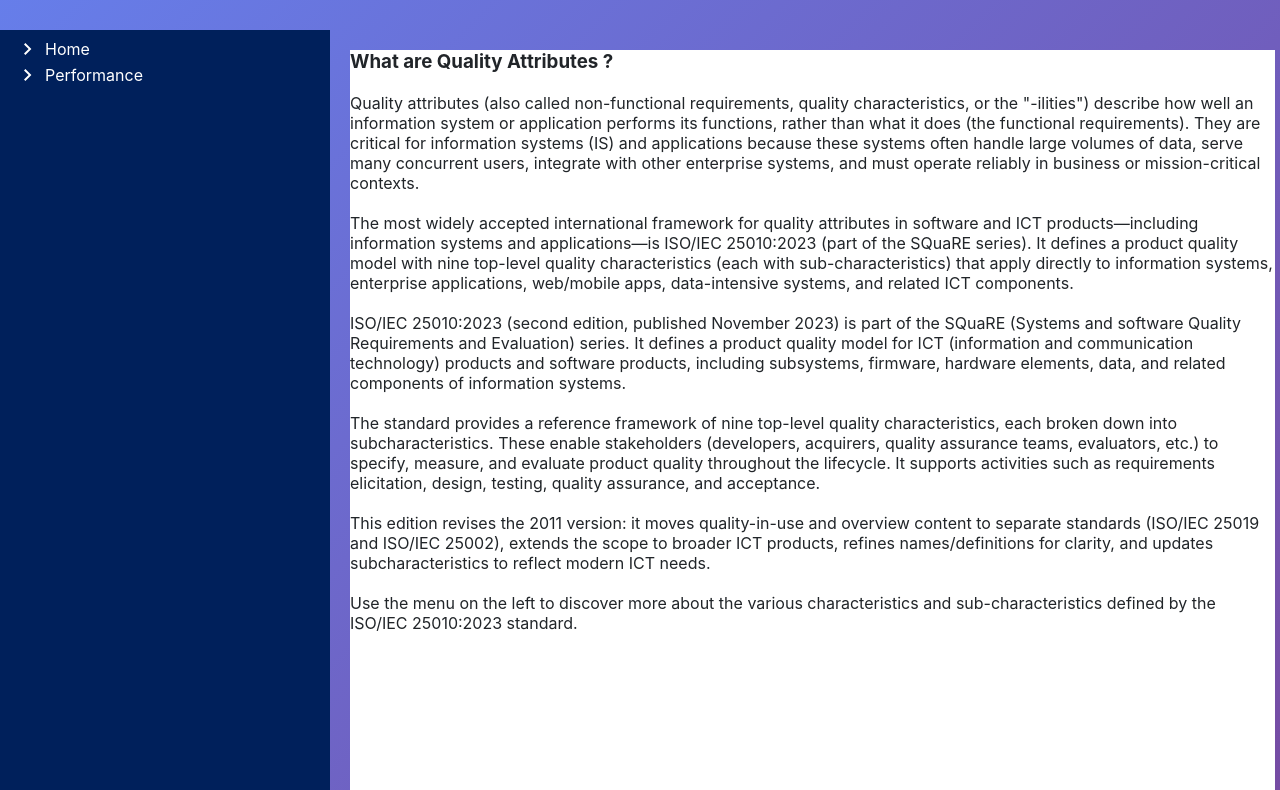
Scenario: ReportBuilder › select sub-characteristic
Click the text "Performance" at [80, 75], box [16,63,143,87]
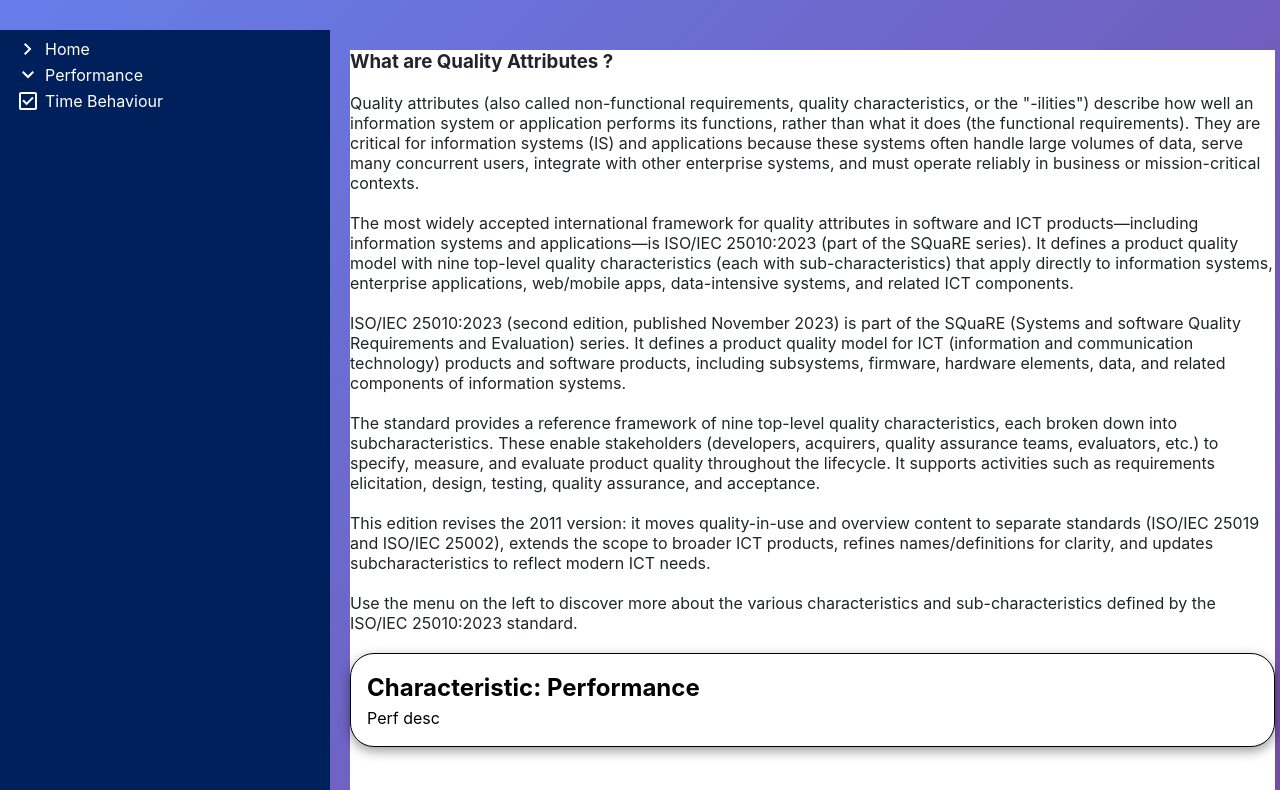
Click the text "Time Behaviour" at [90, 101], box [16,89,163,113]
(page scrolled)
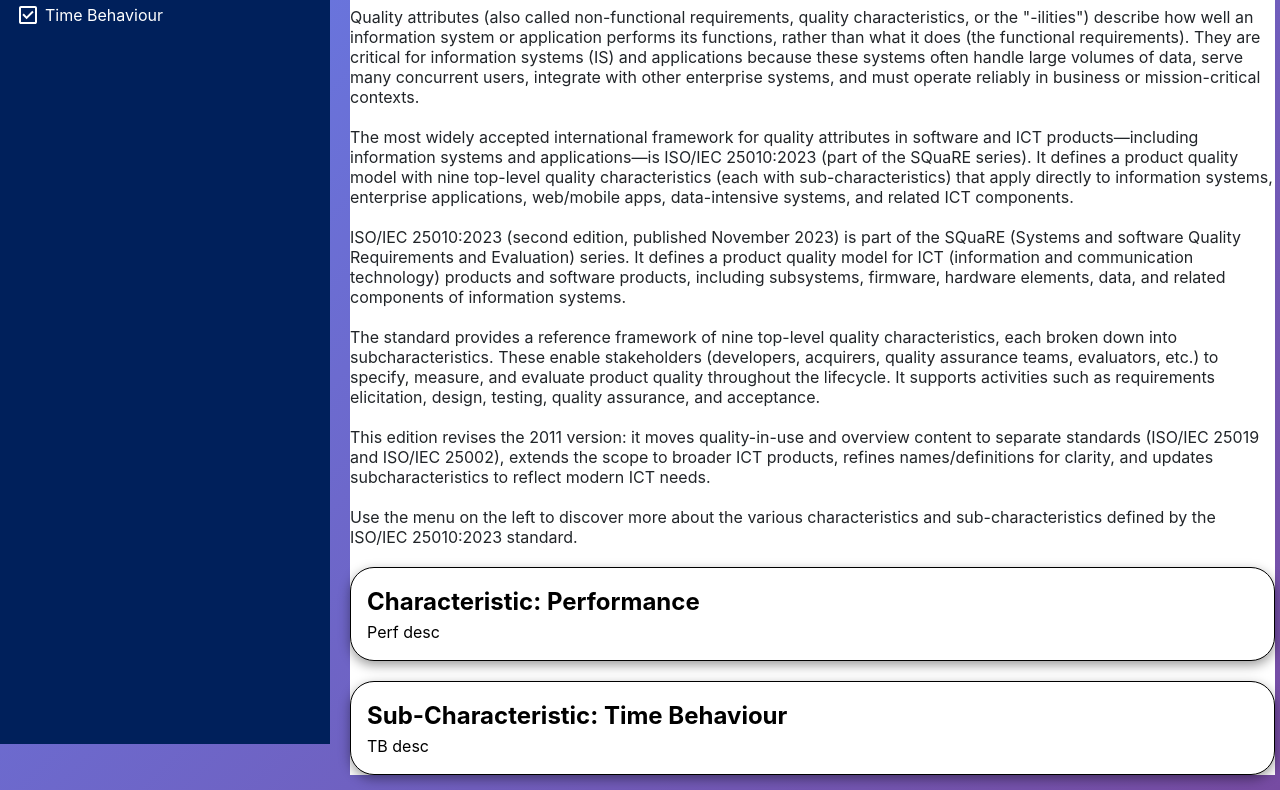
Check: the text "TB desc" is shown, box [367,736,429,756]
